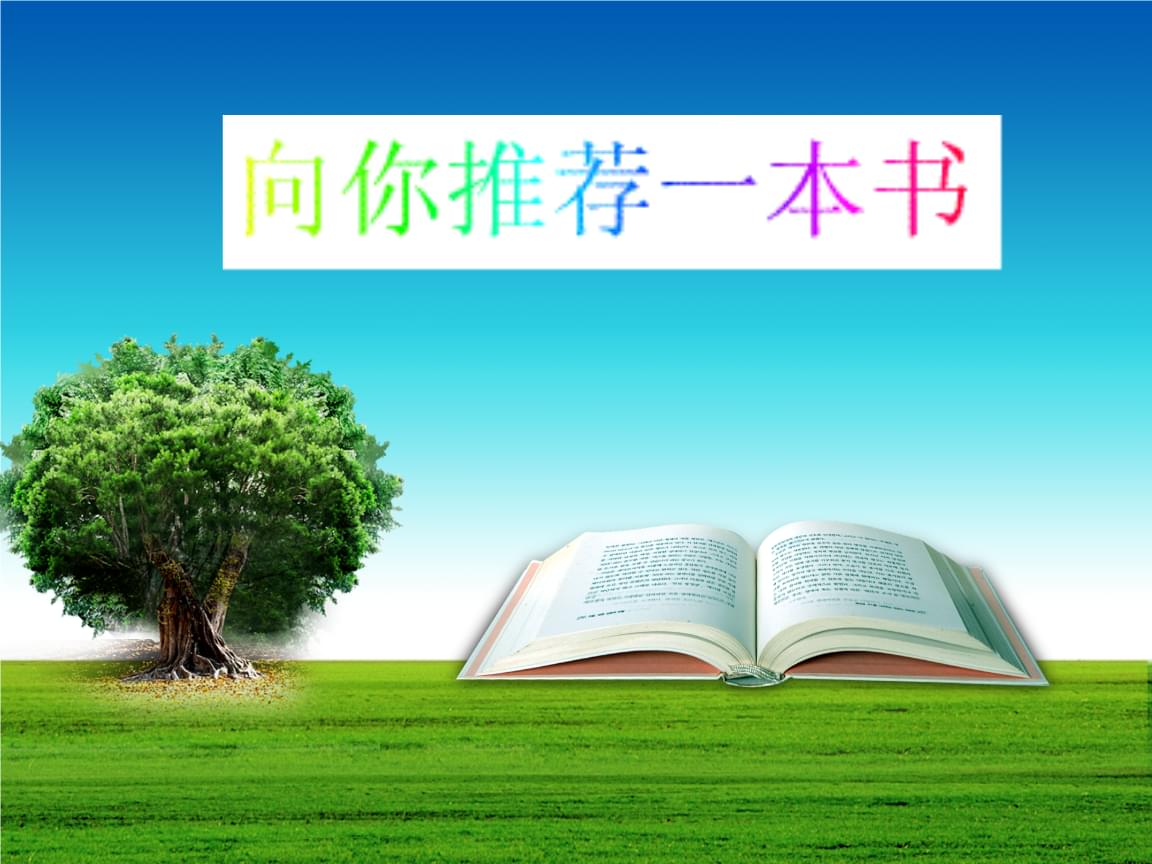book: (453, 520, 1055, 679)
